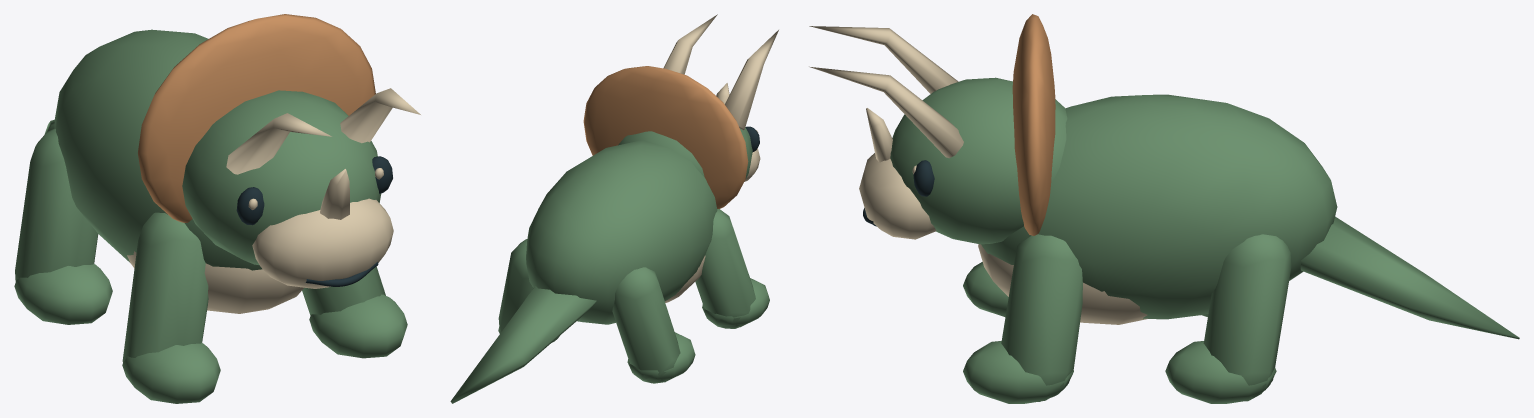
File: org_triceratops.glb
3 renders of one model, left to right at view 1: azimuth 30°, elevation 25°; view 2: azimuth 150°, elevation 25°; view 3: azimuth 270°, elevation 25°, orthographic. The views are drawn at different scales.
Visible parts, largest first — view 1: Head, Body, Leg_FL, Leg_BL, Leg_FR, Eye_L, Eye_R; view 2: Body, Head, Leg_BL, Tail, Leg_FL, Leg_BR; view 3: Body, Head, Leg_BR, Leg_FR, Tail, Leg_FL, Eye_R.
Part boxes in pixels (x1,y1,x2,y2): Head: (138, 14, 420, 288); Body: (54, 29, 303, 313); Leg_FL: (122, 212, 220, 403); Leg_BL: (14, 128, 112, 324); Leg_FR: (302, 266, 407, 358); Eye_L: (236, 187, 264, 225); Eye_R: (372, 156, 392, 193); Body: (526, 140, 717, 324); Head: (583, 14, 778, 208); Leg_BL: (612, 267, 695, 383); Tail: (450, 286, 596, 403); Leg_FL: (695, 209, 769, 328); Leg_BR: (498, 239, 559, 342); Body: (978, 94, 1337, 324); Head: (809, 14, 1067, 244); Leg_BR: (1165, 234, 1291, 403); Leg_FR: (963, 234, 1082, 403); Tail: (1300, 216, 1519, 339); Leg_FL: (963, 262, 1008, 317); Eye_R: (912, 160, 934, 196).
Size of the model in its own units: 1.28 by 1.6 by 3.15.
